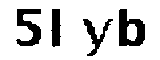5: (10, 3, 46, 51)
I: (46, 4, 70, 52)
b: (116, 4, 153, 52)
y: (79, 13, 113, 60)
